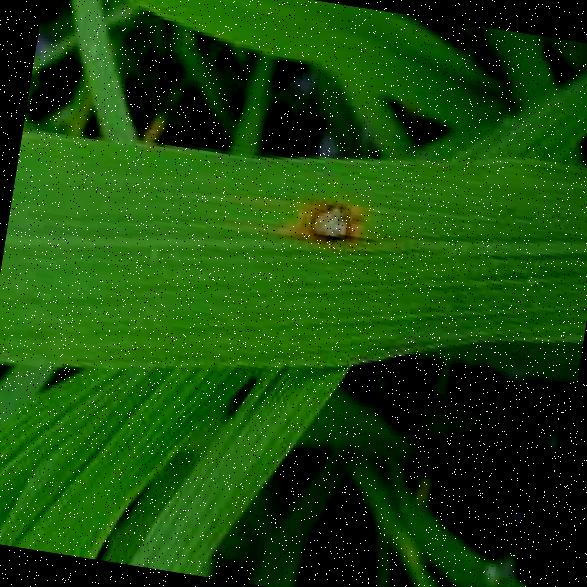Leaf_smut: (282, 159, 386, 258)
